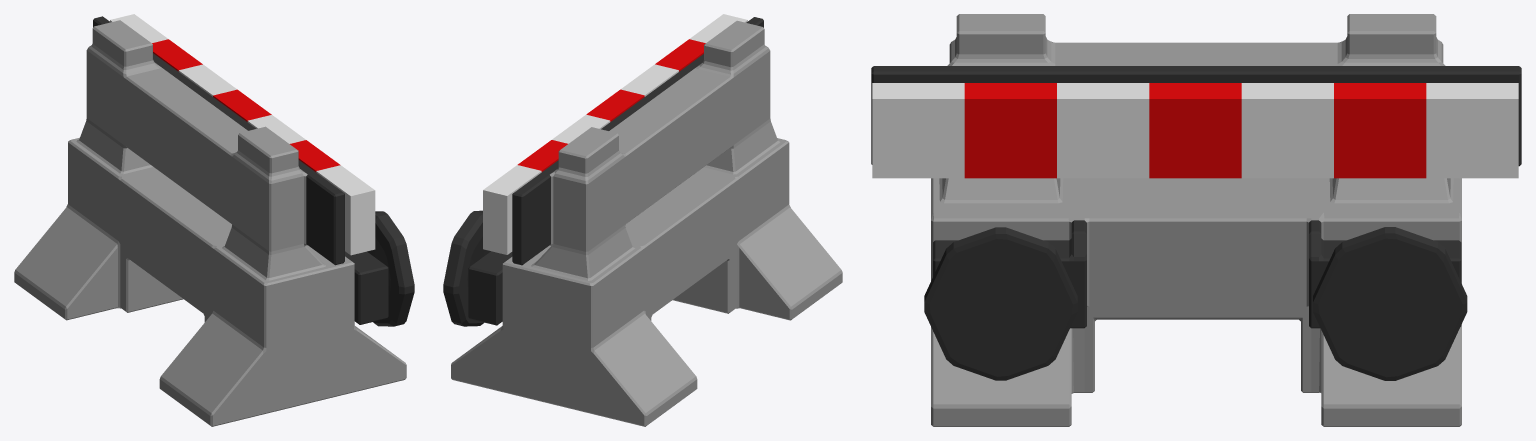
Rendered from bariyer_revize.fbx.
The picture shows the model from 3 angles, left to right: view 1: azimuth 30°, elevation 25°; view 2: azimuth 150°, elevation 25°; view 3: azimuth 270°, elevation 25°; orthographic projection. The views are drawn at different scales.
Visible parts, largest first — view 1: Cube, Cube.005, Cube.004, Cube.001, Cube.003, Cube.002; view 2: Cube, Cube.005, Cube.004, Cube.001, Cube.003, Cube.002; view 3: Cube.001, Cube.003, Cube, Cube.004, Cube.005, Cube.002.
Boxes of the visible parts, x1=… form: Cube: x1=14, y1=137, x2=406, y2=426; Cube.005: x1=76, y1=20, x2=325, y2=280; Cube.004: x1=125, y1=173, x2=231, y2=312; Cube.001: x1=110, y1=14, x2=375, y2=255; Cube.003: x1=345, y1=211, x2=414, y2=326; Cube.002: x1=93, y1=16, x2=344, y2=265; Cube: x1=451, y1=138, x2=842, y2=426; Cube.005: x1=531, y1=20, x2=780, y2=280; Cube.004: x1=625, y1=174, x2=731, y2=313; Cube.001: x1=483, y1=14, x2=747, y2=254; Cube.003: x1=443, y1=210, x2=512, y2=326; Cube.002: x1=512, y1=17, x2=763, y2=265; Cube.001: x1=872, y1=83, x2=1518, y2=178; Cube.003: x1=924, y1=220, x2=1467, y2=380; Cube: x1=931, y1=178, x2=1461, y2=426; Cube.004: x1=1089, y1=178, x2=1306, y2=319; Cube.005: x1=939, y1=14, x2=1453, y2=203; Cube.002: x1=871, y1=66, x2=1521, y2=166.
Bounding box in the file's own units: 320 × 375 × 667.
